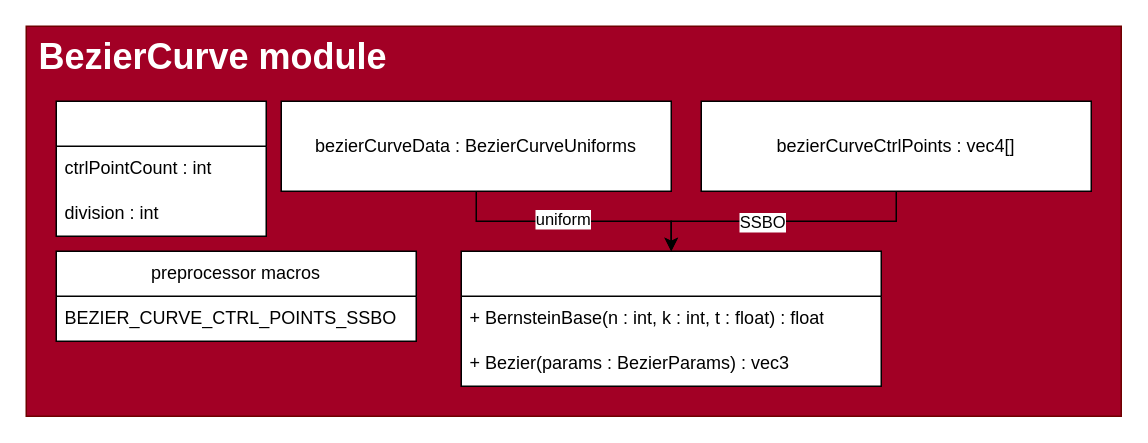
This 1148x443 diagram has some shape labels left out. Each missing label, with the box of its shape:
BezierCurveUniforms: (55, 100, 266, 236)
functions: (460, 250, 881, 386)
